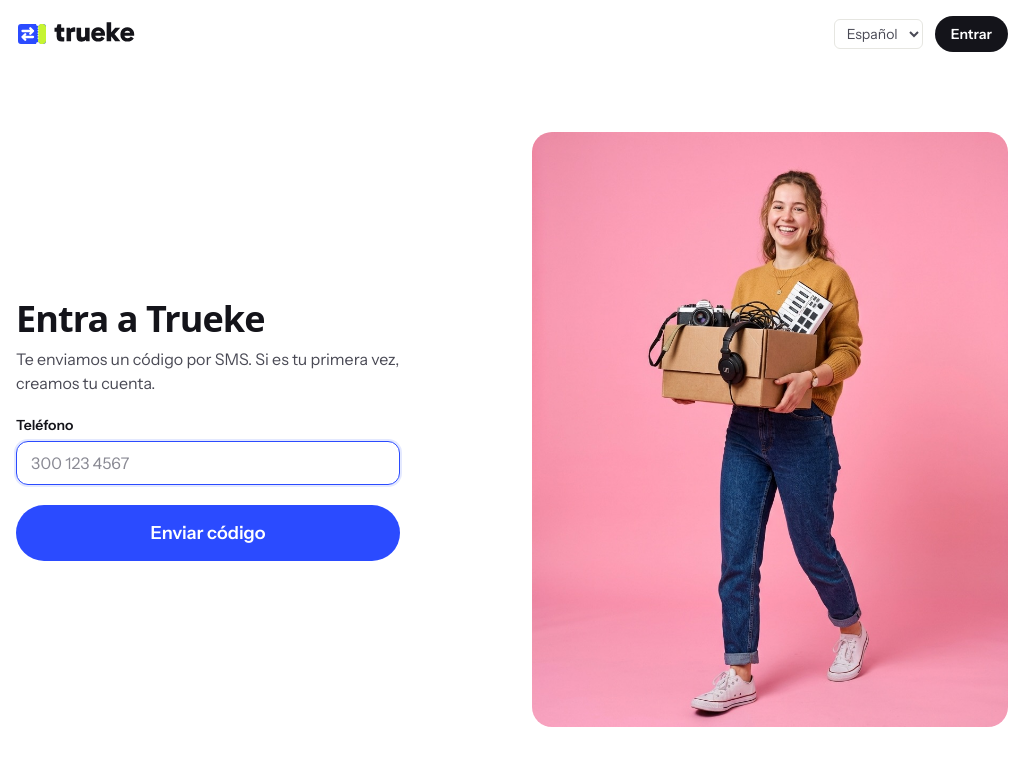
entrar › si ya hay un código vigente pasa al paso 2 con la espera del servidor
The width and height of the screenshot is (1024, 768).
Type "3001112233" into the field labelled "Teléfono" at (208, 462), box [16, 440, 400, 484]
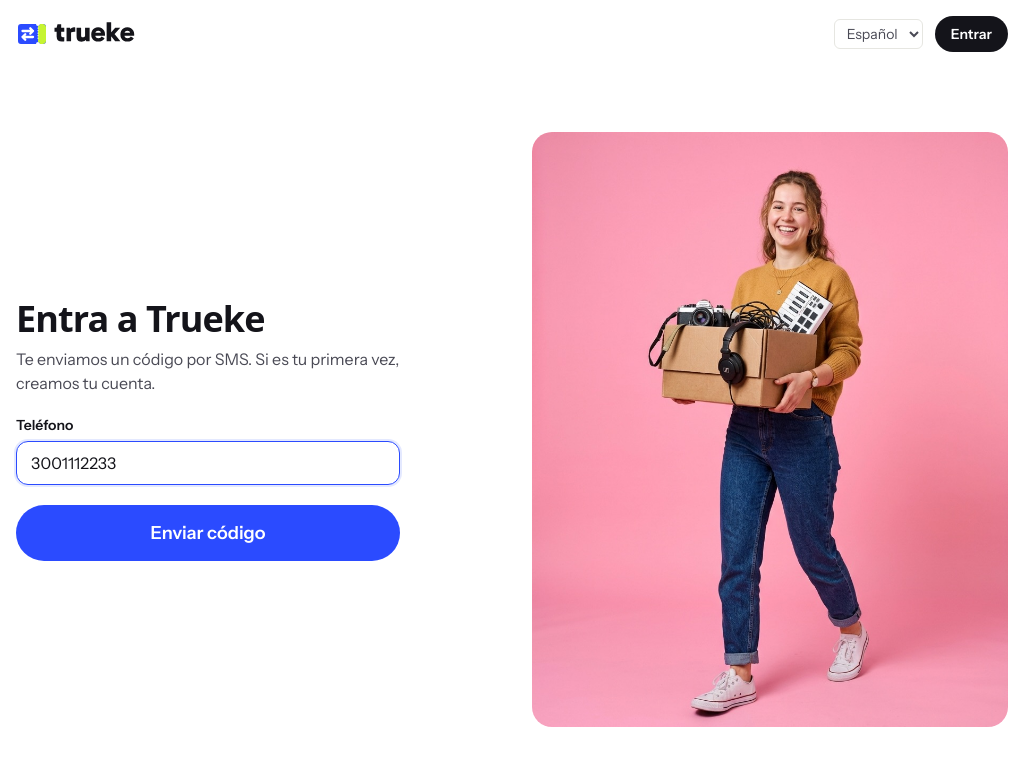
Click the button "Enviar código" at (208, 532), box [16, 504, 400, 560]
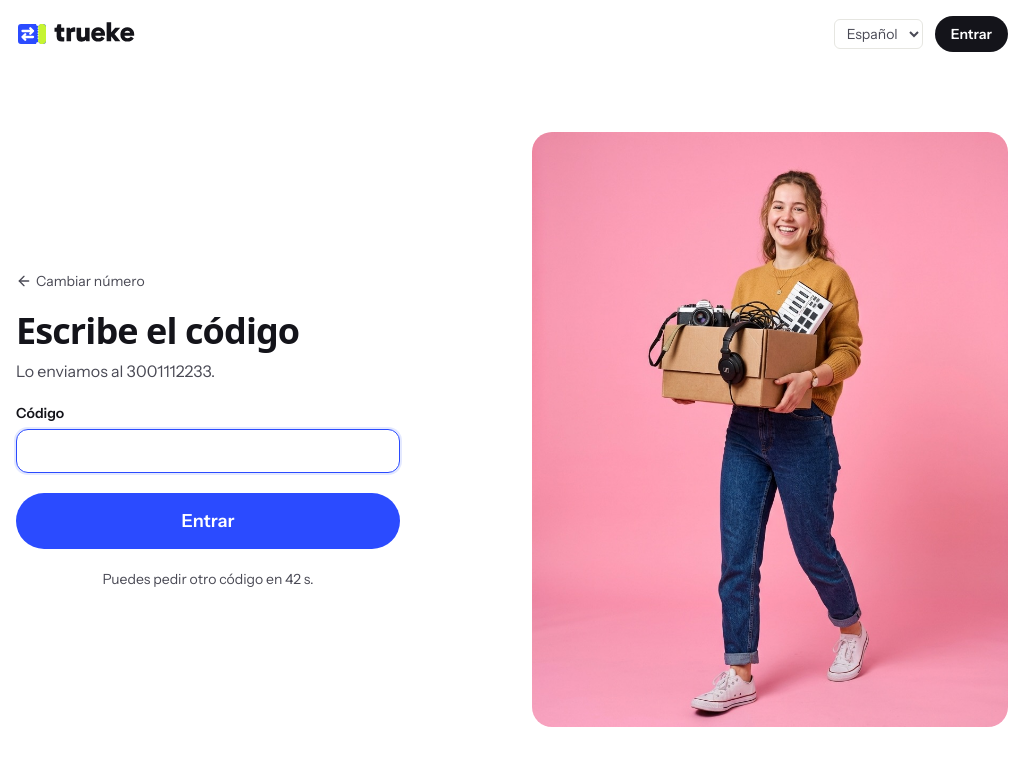
expect the text "Puedes pedir otro código en 42 s." is shown: met, box [102, 570, 314, 588]
